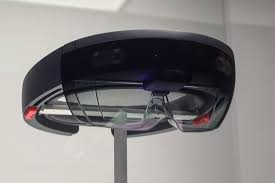hololens: (22, 27, 237, 135)
